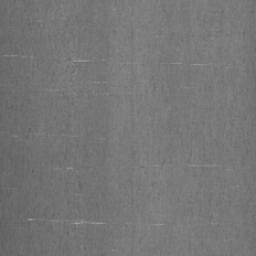Waist folding: (26, 213, 164, 256), (164, 9, 256, 68), (46, 57, 142, 96), (0, 127, 104, 142), (140, 162, 256, 170), (0, 165, 79, 173), (0, 15, 68, 24), (0, 53, 35, 59)
